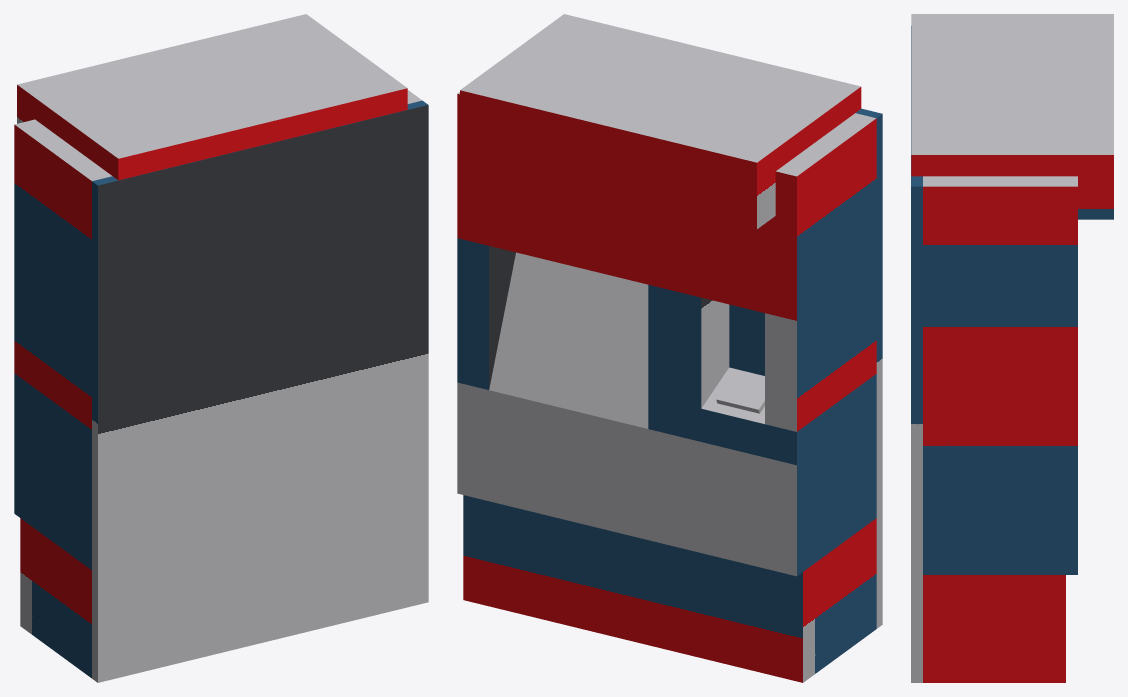
Rendered from db_fahrkartenautomat.obj.
The picture shows the model from 3 angles, left to right: view 1: azimuth 30°, elevation 25°; view 2: azimuth 150°, elevation 25°; view 3: azimuth 270°, elevation 25°; orthographic projection. The views are drawn at different scales.
Parts seen in each view (by area): view 1: cube; view 2: cube; view 3: cube.
Part boxes in pixels (<box>): cube: <box>14,14,428,682</box>; cube: <box>457,14,882,682</box>; cube: <box>911,14,1113,682</box>.
Bounding box in the file's own units: 2 × 3 × 1.06.
